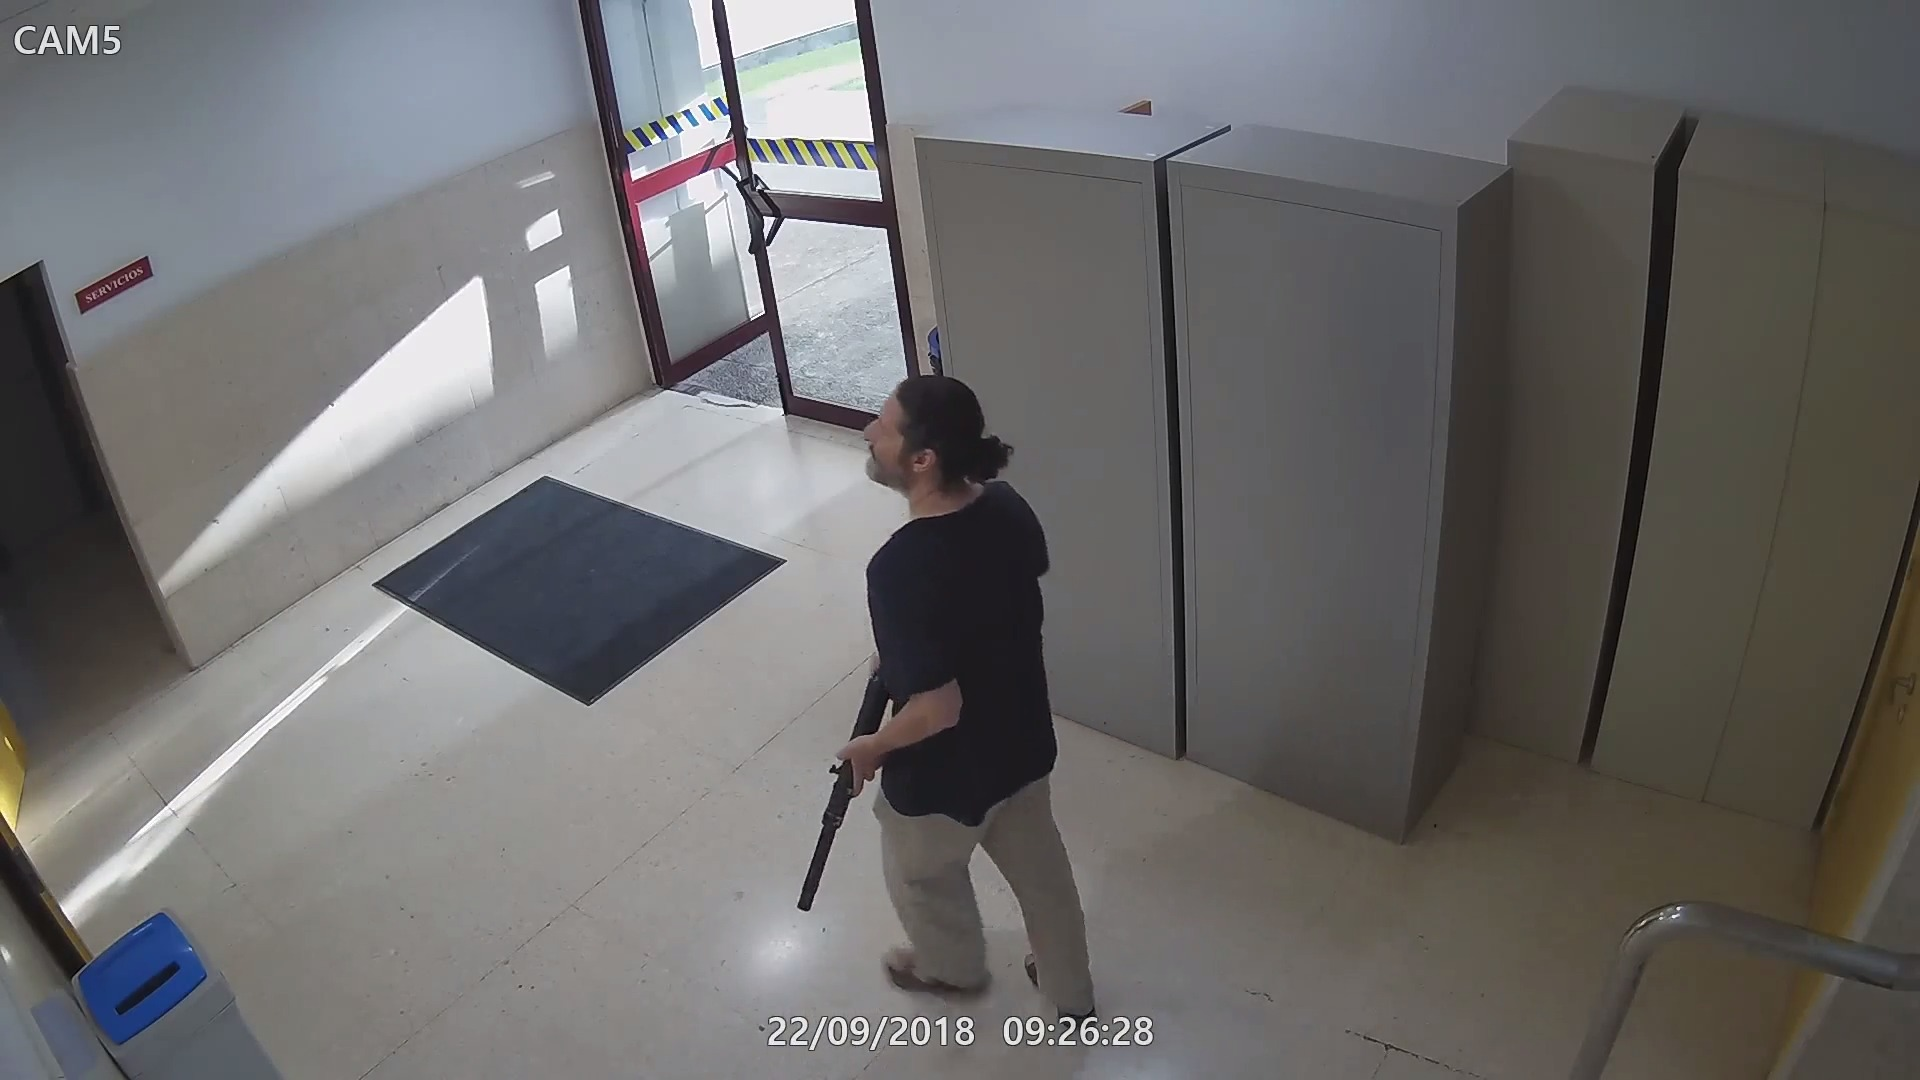Short_rifle: (793, 665, 889, 924)
